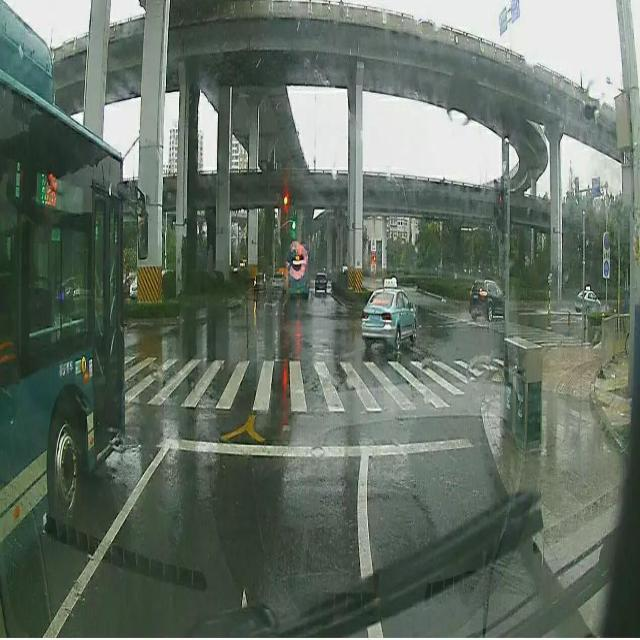car: (358, 275, 416, 348), (469, 274, 507, 320), (576, 284, 604, 310), (253, 270, 266, 294), (314, 272, 326, 294), (272, 270, 284, 292)
